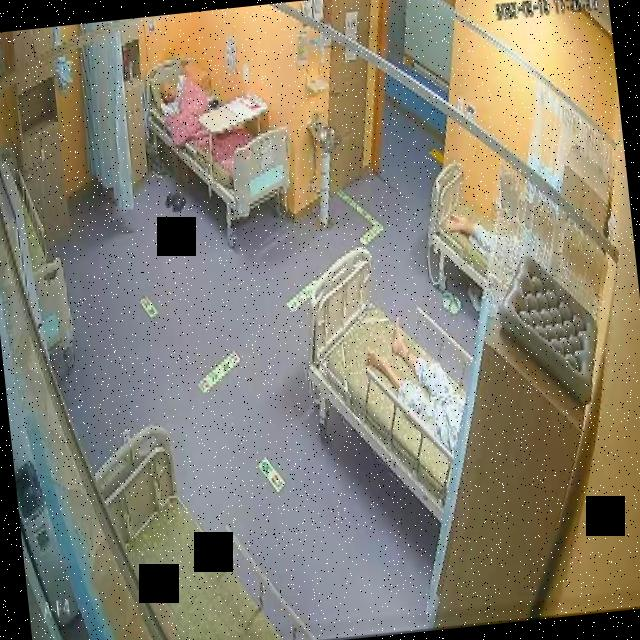bed: (294, 239, 480, 529), (88, 412, 316, 640), (136, 46, 298, 228), (423, 158, 499, 294)
lie: (362, 306, 471, 458)
patient: (363, 304, 472, 456), (156, 71, 193, 117)
